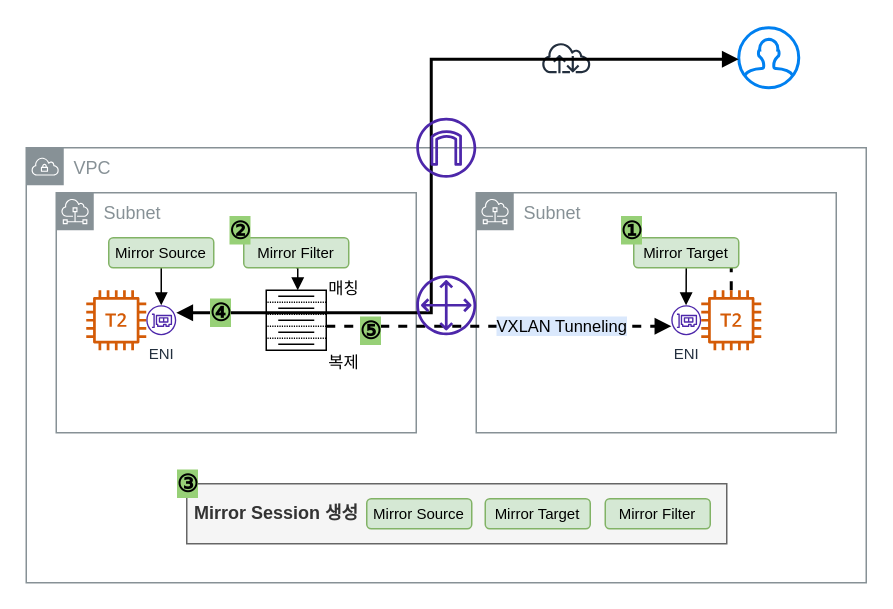
Image size: 893x609. Some labels were removed from this diagram. Here are the shapes that lost their labels. From the top down, the centre of each, then its label:
point 565,57: Internet
point 446,147: IGW
point 116,320: SRC-EC2
point 446,304: Router
point 730,320: Target-EC2
